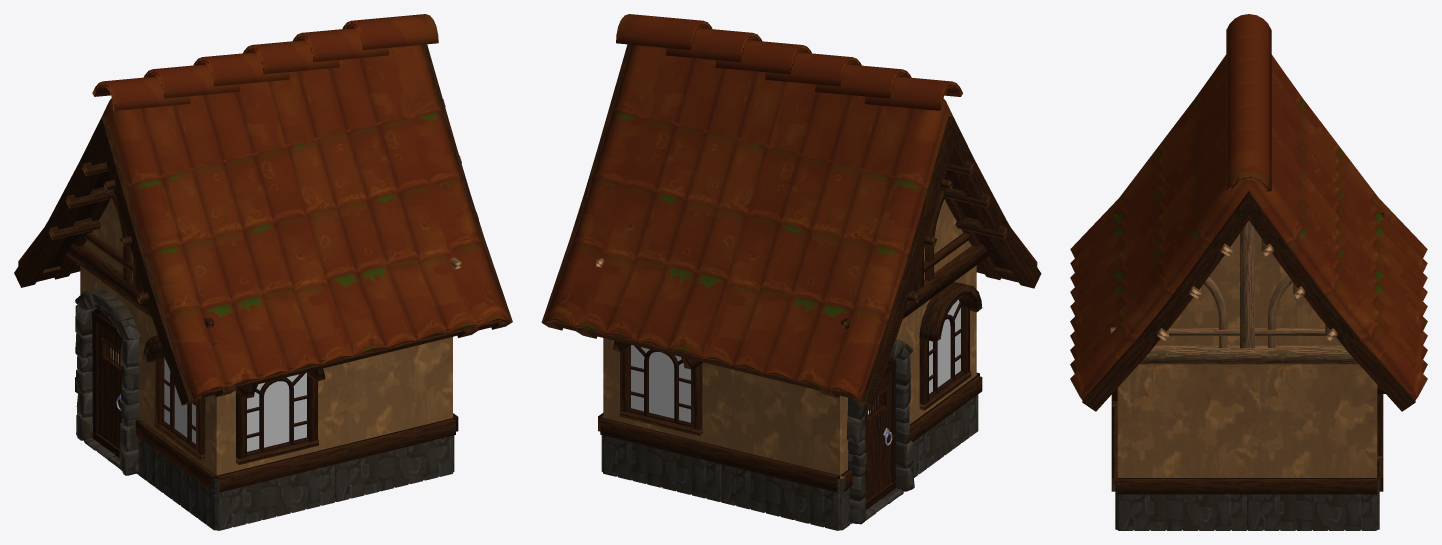
Rendered from Casa_piccola4.obj.
3 views of the same model, side by side, from view 1: azimuth 30°, elevation 25°; view 2: azimuth 150°, elevation 25°; view 3: azimuth 270°, elevation 25° (orthographic). The views are drawn at different scales.
Parts seen in each view (by area): view 1: StaticMeshActor_146, StaticMeshActor_131, StaticMeshActor_138, StaticMeshActor_205, StaticMeshActor_141, StaticMeshActor_137, StaticMeshActor_142, StaticMeshActor_144, StaticMeshActor_140, StaticMeshActor_139; view 2: StaticMeshActor_146, StaticMeshActor_136, StaticMeshActor_133, StaticMeshActor_135, StaticMeshActor_137, StaticMeshActor_142, StaticMeshActor_140, StaticMeshActor_205, StaticMeshActor_144, StaticMeshActor_139; view 3: StaticMeshActor_146, StaticMeshActor_134, StaticMeshActor_132, StaticMeshActor_143, StaticMeshActor_131, StaticMeshActor_135.
Boxes of the visible parts, box(x1,y1,x2,y2) form: StaticMeshActor_146: box(14, 14, 512, 405); StaticMeshActor_131: box(334, 337, 455, 501); StaticMeshActor_138: box(216, 365, 337, 530); StaticMeshActor_205: box(75, 287, 140, 475); StaticMeshActor_141: box(235, 368, 325, 464); StaticMeshActor_137: box(143, 316, 217, 530); StaticMeshActor_142: box(48, 162, 218, 344); StaticMeshActor_144: box(91, 308, 123, 457); StaticMeshActor_140: box(143, 335, 205, 460); StaticMeshActor_139: box(75, 266, 148, 480); StaticMeshActor_146: box(541, 14, 1041, 406); StaticMeshActor_136: box(718, 367, 839, 530); StaticMeshActor_133: box(600, 338, 721, 501); StaticMeshActor_135: box(612, 341, 702, 436); StaticMeshActor_137: box(908, 265, 982, 477); StaticMeshActor_142: box(841, 161, 1008, 328); StaticMeshActor_140: box(919, 282, 982, 410); StaticMeshActor_205: box(847, 339, 914, 524); StaticMeshActor_144: box(864, 357, 896, 509); StaticMeshActor_139: box(839, 315, 913, 530); StaticMeshActor_146: box(1070, 14, 1427, 411); StaticMeshActor_134: box(1247, 364, 1377, 530); StaticMeshActor_132: box(1117, 364, 1247, 530); StaticMeshActor_143: box(1110, 221, 1358, 364); StaticMeshActor_131: box(1111, 423, 1117, 529); StaticMeshActor_135: box(1377, 385, 1385, 461).
Bounding box in the file's own units: 570 × 659 × 551.
